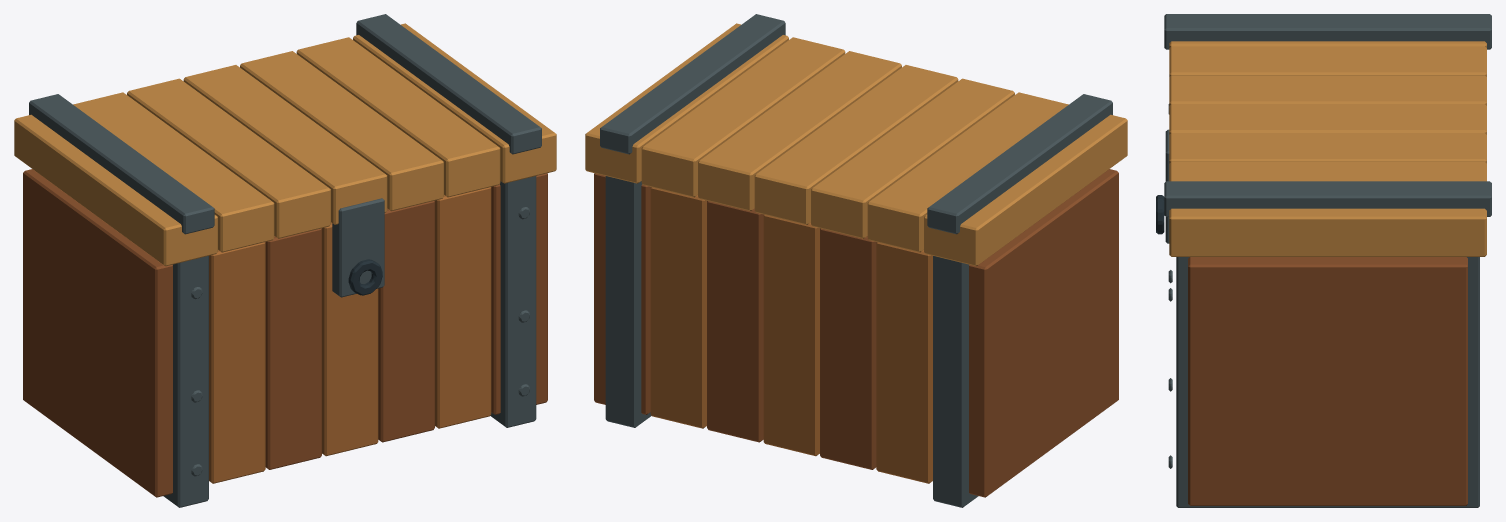
Rendered from ironbound_chest.glb.
3 renders of one model, left to right at view 1: azimuth 30°, elevation 25°; view 2: azimuth 150°, elevation 25°; view 3: azimuth 270°, elevation 25°, orthographic. The views are drawn at different scales.
Visible parts, largest first — view 1: ironbound_chest__body__oak, ironbound_chest__lid__oak3, ironbound_chest__body__oak2, ironbound_chest__body__metal, ironbound_chest__lid__metal, ironbound_chest__body__dark; view 2: ironbound_chest__body__oak, ironbound_chest__lid__oak3, ironbound_chest__body__oak2, ironbound_chest__body__metal, ironbound_chest__lid__metal; view 3: ironbound_chest__body__oak, ironbound_chest__lid__oak3, ironbound_chest__lid__metal, ironbound_chest__body__metal.
Part boxes in pixels (bbox=[...]): ironbound_chest__body__oak: bbox=[23, 169, 547, 497]; ironbound_chest__lid__oak3: bbox=[14, 23, 556, 266]; ironbound_chest__body__oak2: bbox=[209, 187, 491, 483]; ironbound_chest__body__metal: bbox=[163, 176, 536, 507]; ironbound_chest__lid__metal: bbox=[29, 14, 541, 234]; ironbound_chest__body__dark: bbox=[348, 259, 382, 295]; ironbound_chest__body__oak: bbox=[594, 169, 1118, 497]; ironbound_chest__lid__oak3: bbox=[585, 23, 1127, 266]; ironbound_chest__body__oak2: bbox=[650, 187, 932, 483]; ironbound_chest__body__metal: bbox=[605, 176, 978, 507]; ironbound_chest__lid__metal: bbox=[600, 14, 1112, 234]; ironbound_chest__body__oak: bbox=[1188, 257, 1467, 505]; ironbound_chest__lid__oak3: bbox=[1169, 41, 1486, 256]; ironbound_chest__lid__metal: bbox=[1164, 14, 1491, 216]; ironbound_chest__body__metal: bbox=[1165, 104, 1479, 507].
Size of the model in its own units: 1.39 by 1.01 by 0.984.
